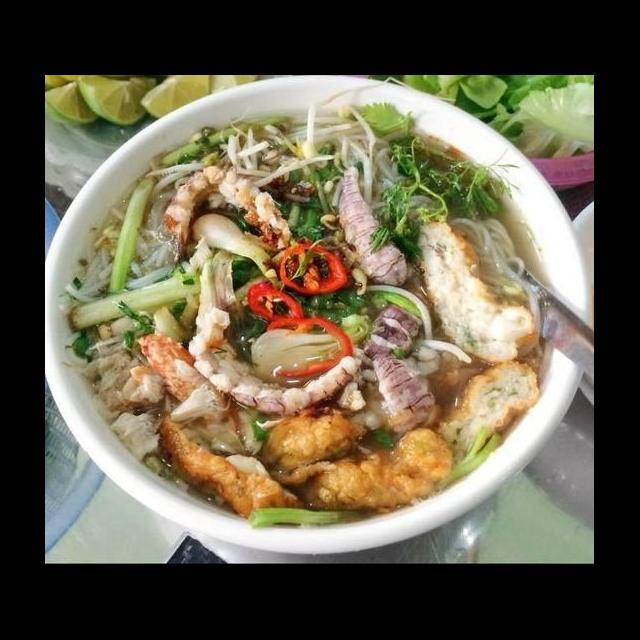bun: (58, 178, 182, 308), (442, 212, 550, 340), (360, 140, 446, 228)
tom tit: (182, 302, 370, 424), (162, 160, 298, 264), (334, 164, 422, 290), (344, 284, 436, 379), (368, 351, 448, 438)
